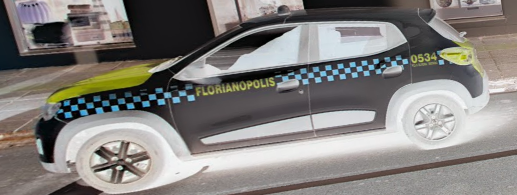car: (32, 8, 493, 192)
